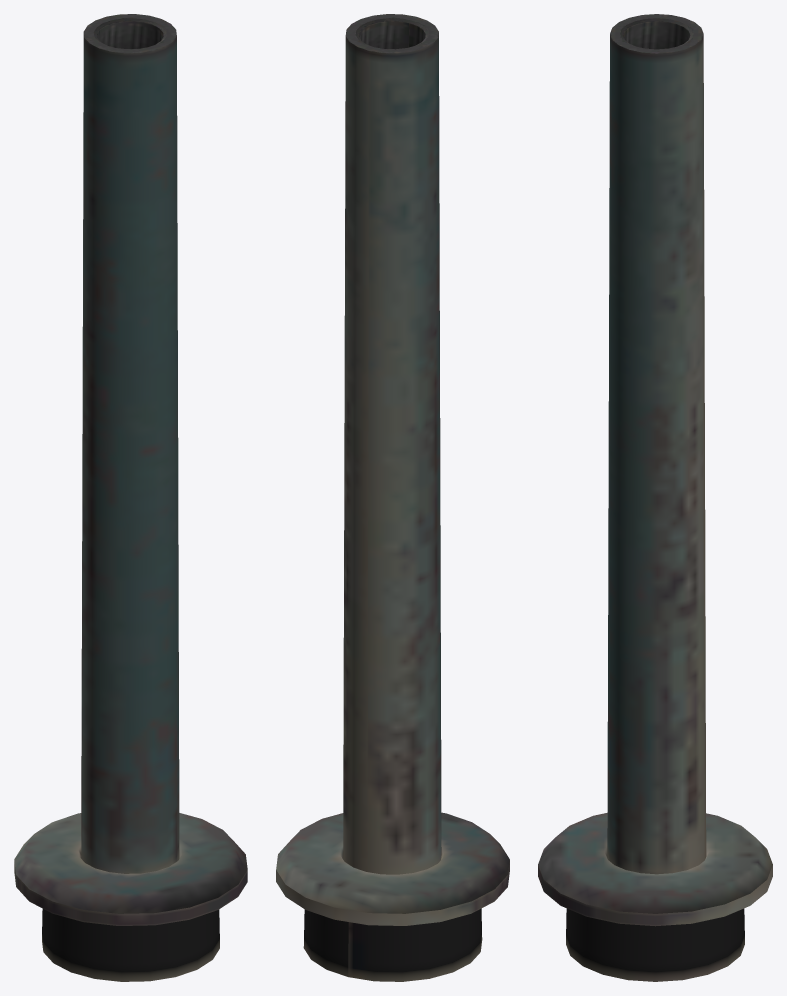
File: Gun_01.glb
3 views of the same model, side by side, from view 1: azimuth 30°, elevation 25°; view 2: azimuth 150°, elevation 25°; view 3: azimuth 270°, elevation 25° (orthographic).
Visible parts, largest first — view 1: set_0_group_0; view 2: set_0_group_0; view 3: set_0_group_0.
Part boxes in pixels (x1,y1,x2,y2): set_0_group_0: (14,14,247,981); set_0_group_0: (276,14,509,981); set_0_group_0: (538,14,772,981).
Bounding box in the file's own units: 0.2629 × 1.12 × 0.2629.
1 material, 1 textured.
